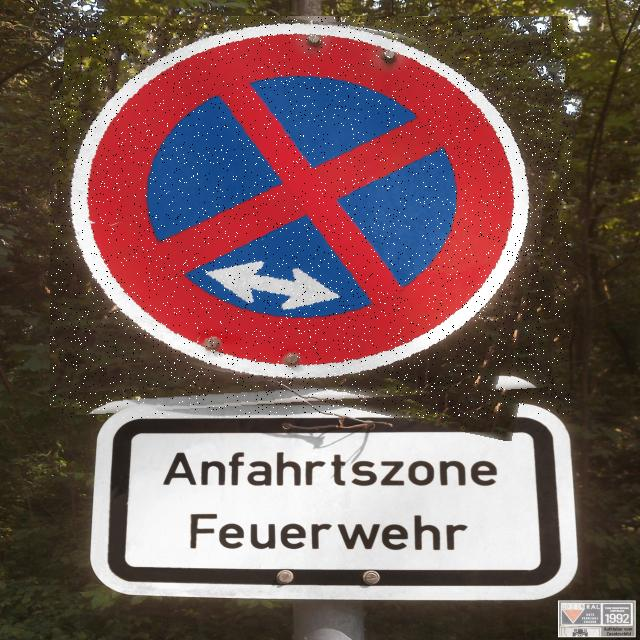no stopping: (50, 16, 570, 418)
